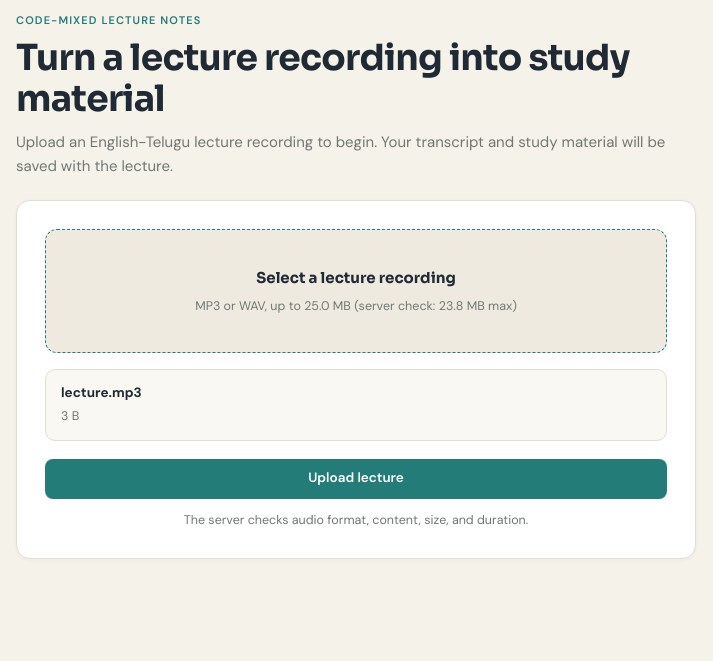
Scenario: UploadPage › uploads once, reports progress, and shows the saved lecture link
Earlier steps of the test are not shown.
Click the button "Upload lecture": [356, 479] box left=45, top=459, right=667, bottom=499
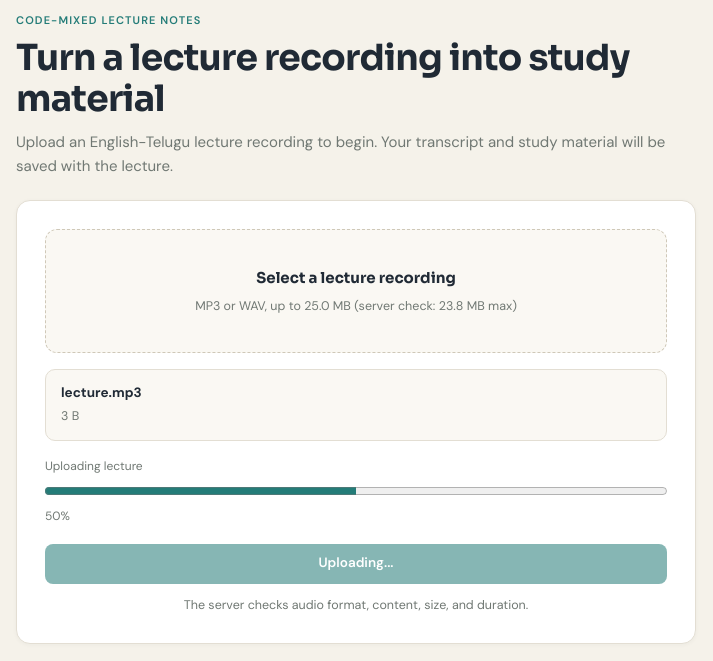
expect the text "50%" is shown: met, box left=45, top=508, right=70, bottom=524
expect the button named "Upload lecture" is disabled: met
Click the button named "Upload lecture": [356, 564] box left=45, top=544, right=667, bottom=584
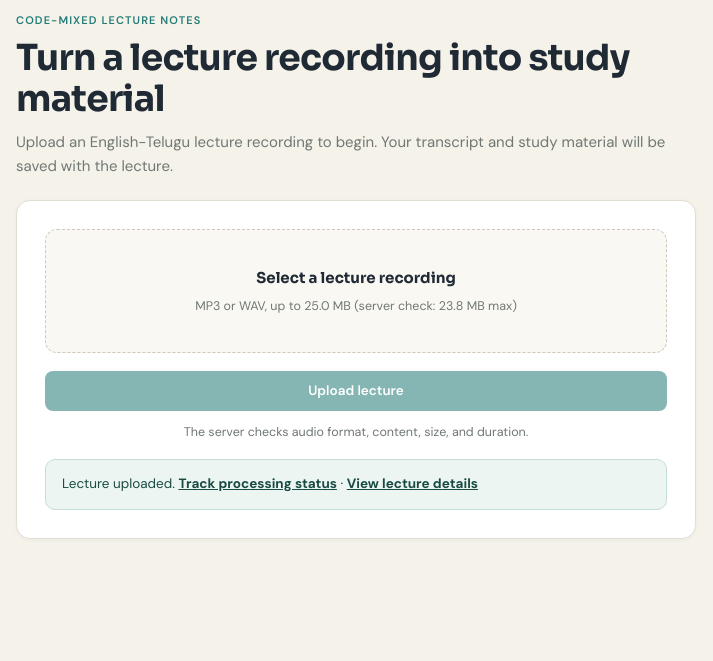
expect the message shows "Lecture uploaded.": met, box left=62, top=475, right=175, bottom=492
